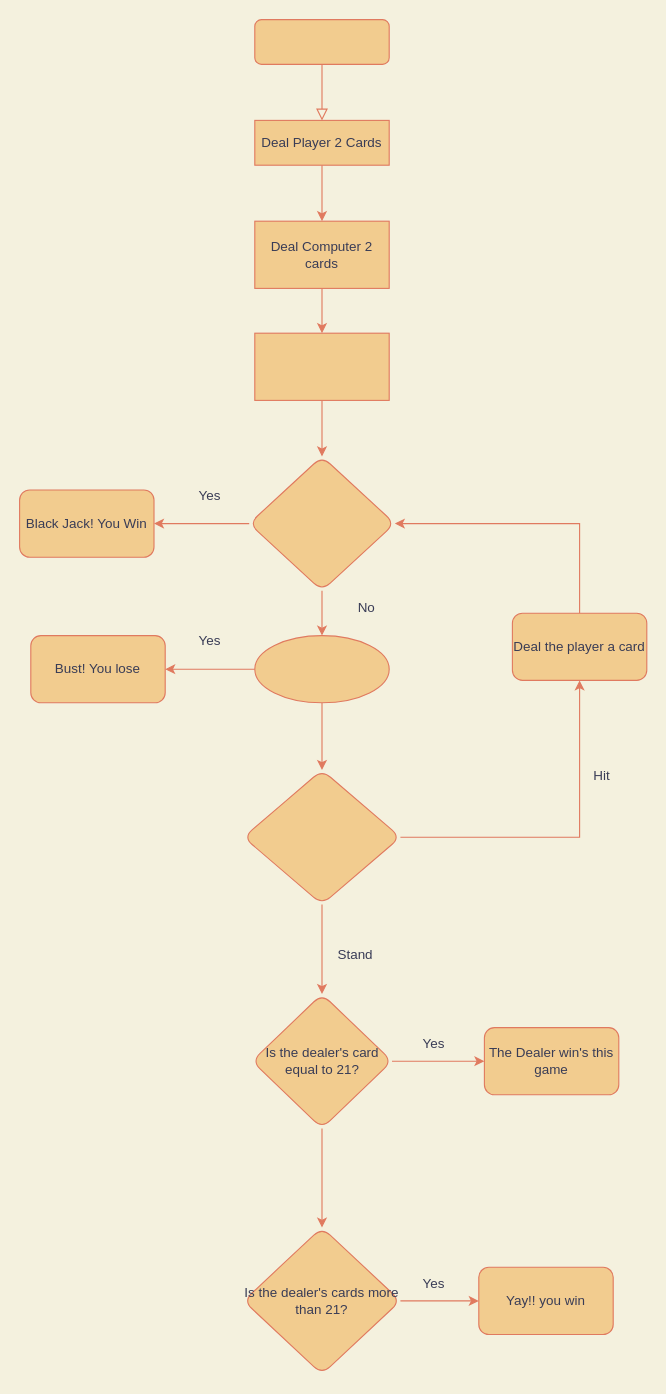
Some shapes in this 666 by 1394 pixel diagram are drawn without their labels. Each missing label, with the centre of its shape:
"Is it greater than 21" goes at point (321, 668).
"Is the players score equal to 21?" goes at point (321, 523).
"Show the player both his cards and one of the Dealer's cards" goes at point (321, 366).
"Start Game" goes at point (321, 41).
"Then ask if he would like to hit or stand" goes at point (321, 836).
